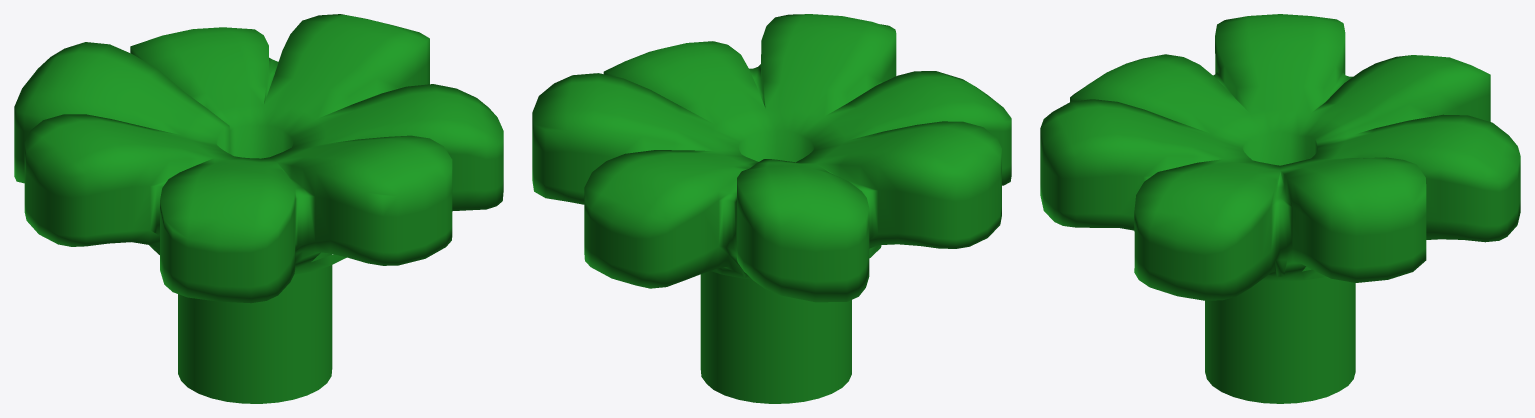
The model's file is Flower1.dae.
3 renders of one model, left to right at view 1: azimuth 30°, elevation 25°; view 2: azimuth 150°, elevation 25°; view 3: azimuth 270°, elevation 25°, orthographic. The views are drawn at different scales.
Visible parts, largest first — view 1: Part.0; view 2: Part.0; view 3: Part.0.
Boxes of the visible parts, left/top/right/bottom form: Part.0: left=14, top=14, right=503, bottom=403; Part.0: left=532, top=14, right=1011, bottom=403; Part.0: left=1040, top=14, right=1520, bottom=403.
Bounding box in the file's own units: 0.01 × 0.0102 × 0.00635.
